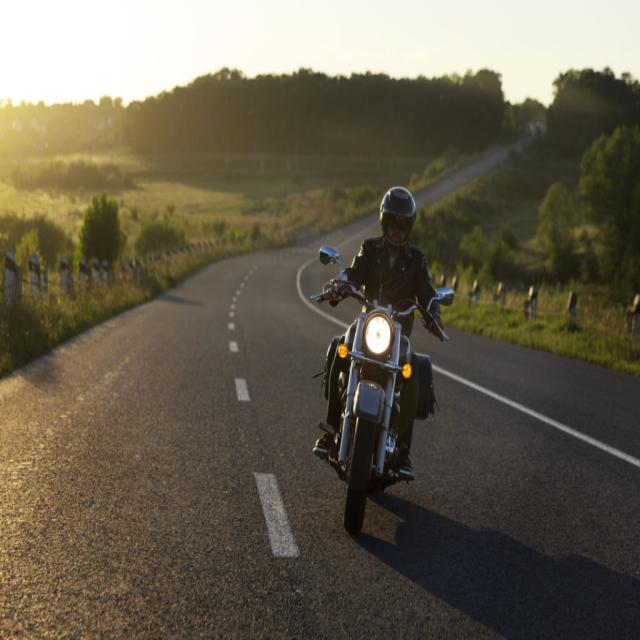MOTORCYCLE: (320, 262, 428, 530)
